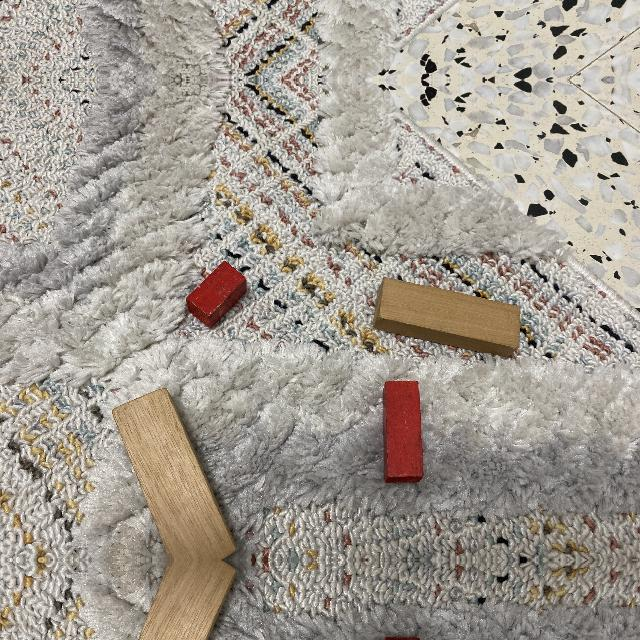jenga: (112, 388, 237, 560), (373, 277, 522, 358), (138, 560, 237, 640)
red block: (383, 381, 424, 485), (186, 261, 247, 329)
